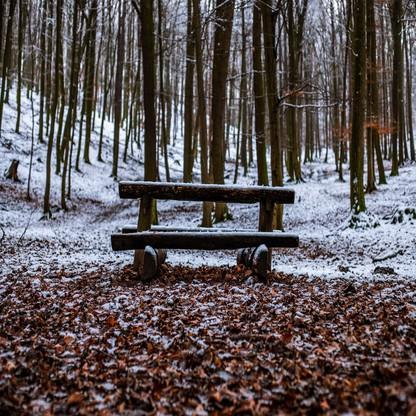obstacle: (108, 161, 302, 296)
